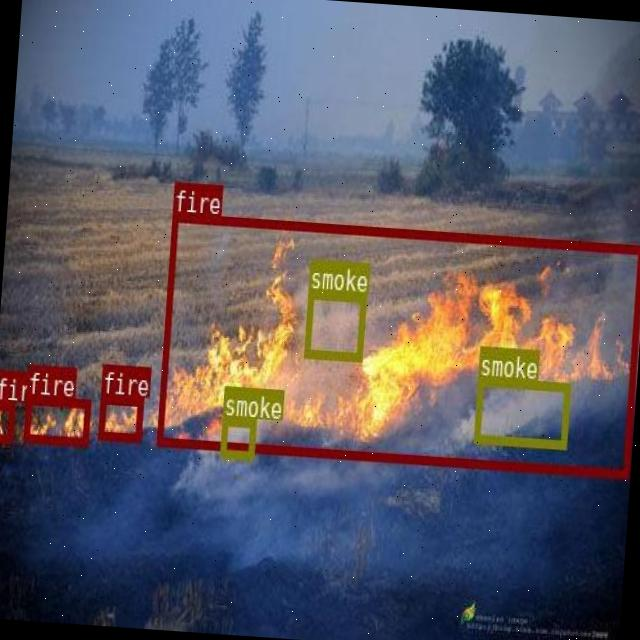fire: (155, 212, 640, 477), (22, 394, 90, 444), (98, 394, 142, 439), (0, 399, 12, 440)
smoke: (473, 376, 569, 448), (303, 289, 366, 360), (219, 416, 255, 458)
